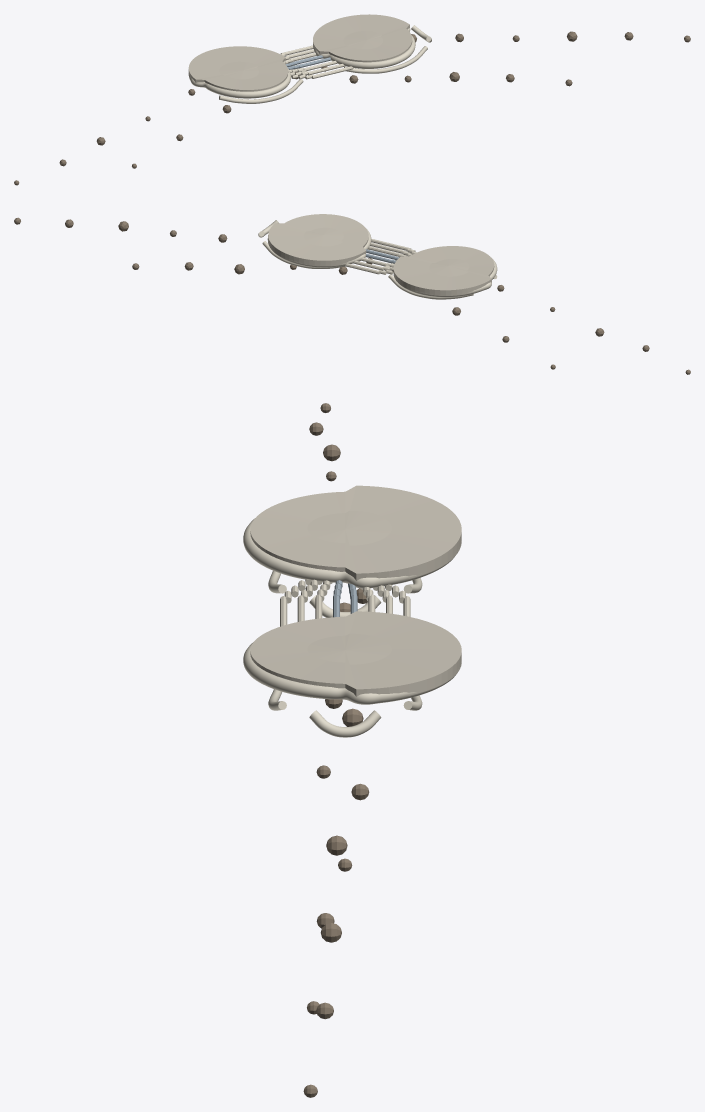
File: sandal.glb
The picture shows the model from 3 angles, top to bottom: view 1: azimuth 30°, elevation 25°; view 2: azimuth 150°, elevation 25°; view 3: azimuth 270°, elevation 25°; orthographic projection. The views are drawn at different scales.
Parts seen in each view (by area): view 1: right_sole, left_sole, left_border, right_border, left_strapR, right_strapR, right_toeknots, left_toeknots; view 2: right_sole, left_sole, left_border, right_toeknots, left_toeknots, right_border, left_strapL; view 3: left_sole, right_sole, right_border, left_border, right_toeknots, left_toeknots.
Boxes of the visible parts, x1,y1,x2,y2 form: right_sole: [313, 14, 412, 62]; left_sole: [188, 46, 288, 91]; left_border: [188, 61, 291, 98]; right_border: [313, 28, 415, 68]; left_strapR: [219, 78, 303, 103]; right_strapR: [344, 46, 427, 73]; right_toeknots: [411, 31, 690, 42]; left_toeknots: [291, 72, 572, 86]; right_sole: [268, 214, 368, 266]; left_sole: [393, 246, 494, 295]; left_border: [393, 257, 497, 297]; right_toeknots: [14, 217, 227, 242]; left_toeknots: [132, 262, 393, 274]; right_border: [267, 228, 371, 267]; left_strapL: [388, 274, 473, 299]; left_sole: [250, 485, 461, 581]; right_sole: [250, 611, 461, 697]; right_border: [243, 642, 461, 704]; left_border: [243, 518, 461, 588]; right_toeknots: [303, 708, 369, 1097]; left_toeknots: [307, 602, 350, 1014].
Size of the model in its own units: 0.8665 by 0.1109 by 0.122.
